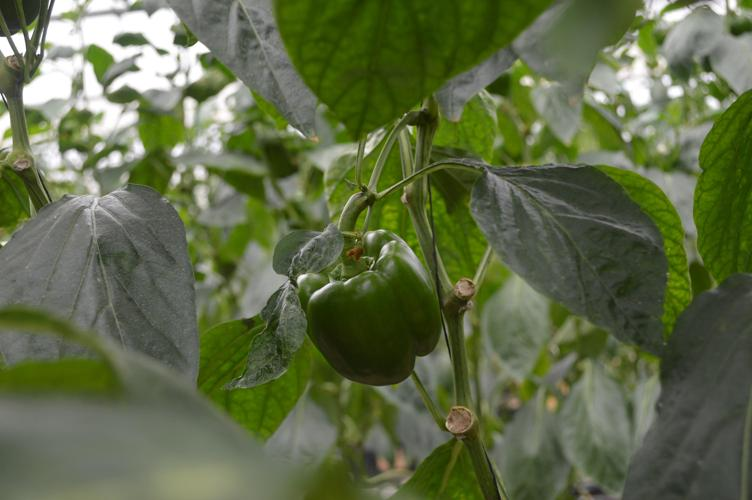BellPepper: (293, 230, 448, 387)
